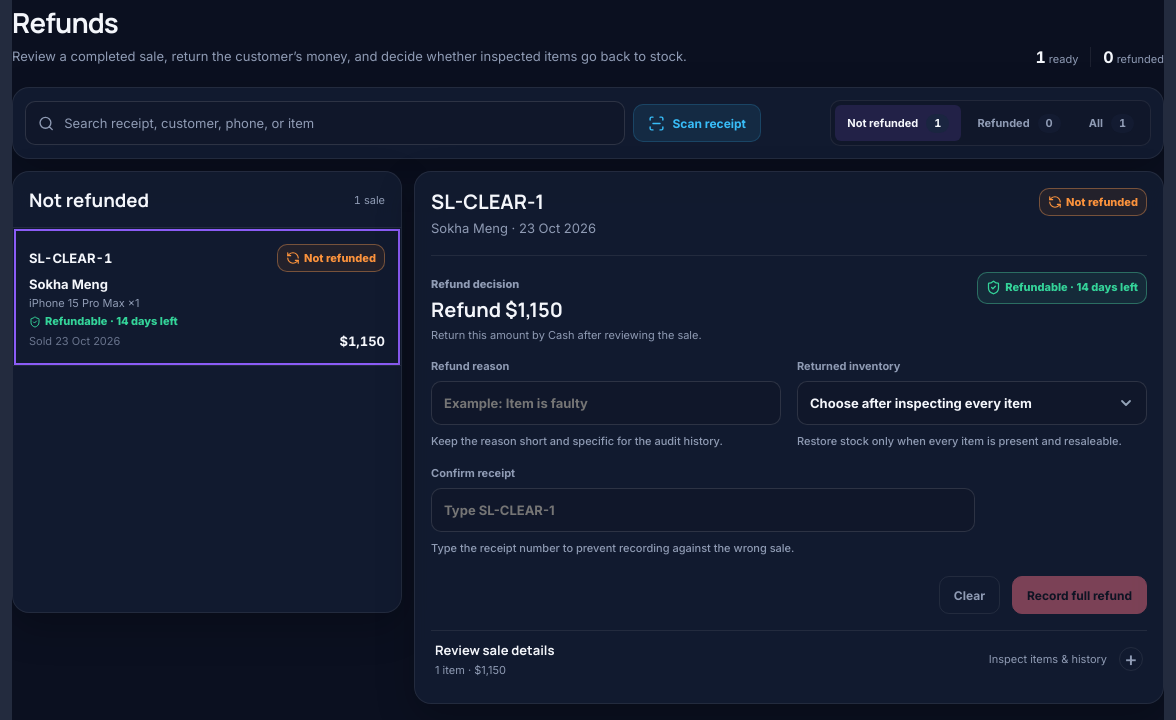
RefundsPage feature integration & safeguards › clear button resets all form inputs and cleared errors
Check: the text "SL-CLEAR-1" is shown, box [29,250,112,266]
In the field with placeholder "Example: Item is faulty": point(606, 403) [431,381,781,425], type "Testing clear button"
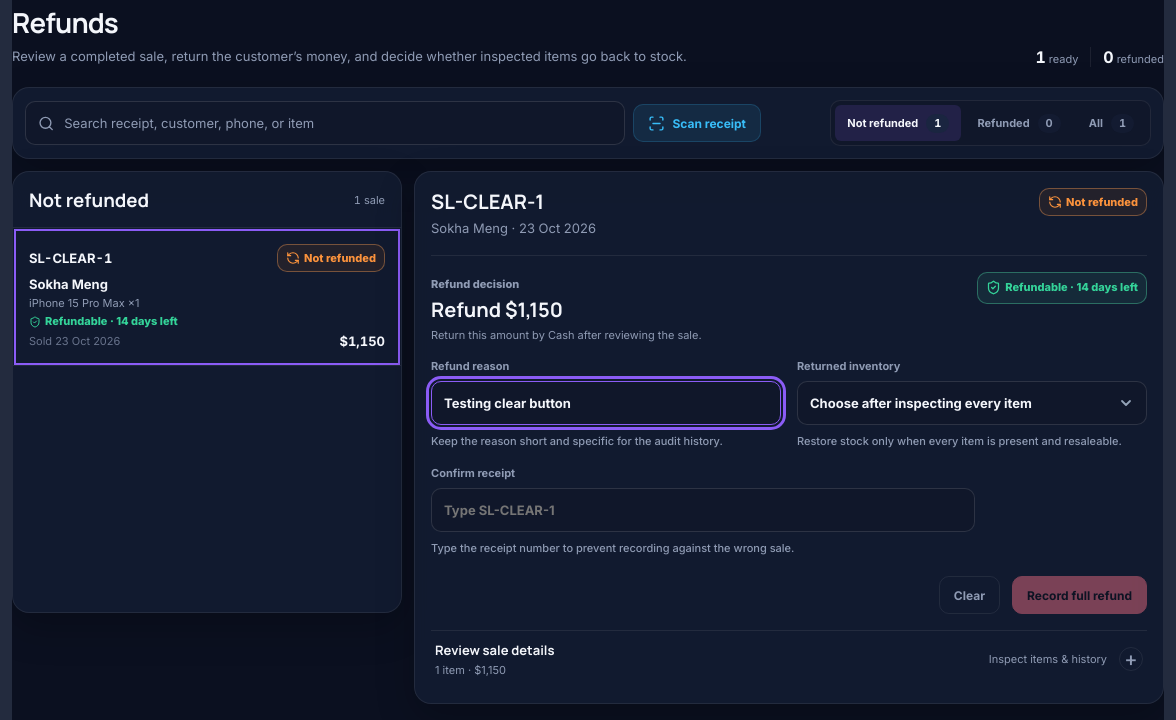
Select "Restore all items to available stock" in the dropdown: point(972, 403) [797,381,1147,425]
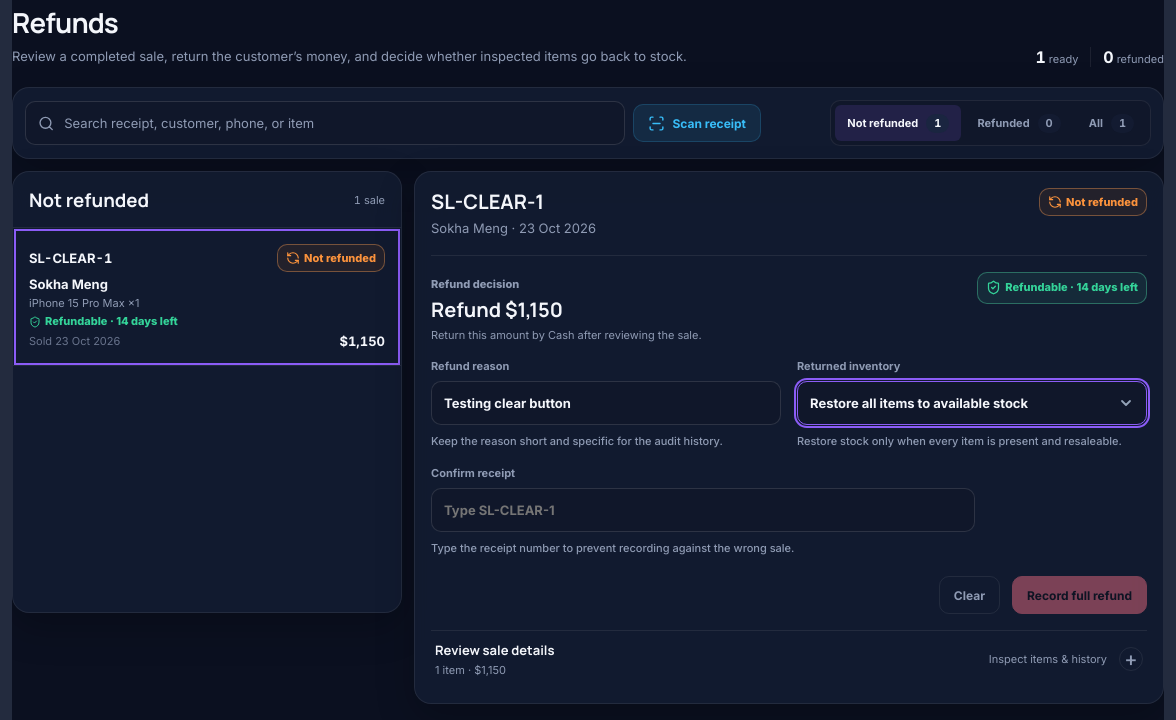
In the field with placeholder "Type SL-CLEAR-1": point(703, 510) [431,488,975,532], type "SL-CLEAR-1"
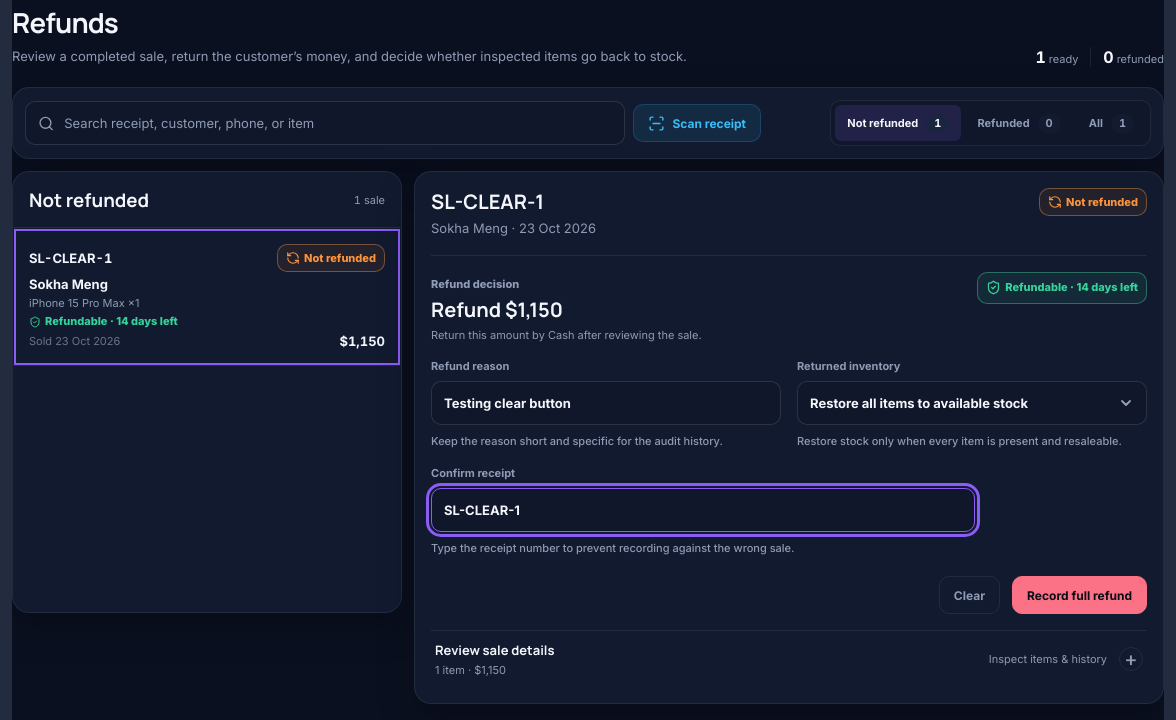
Click the button "Clear": point(969, 595) [939,576,1000,614]
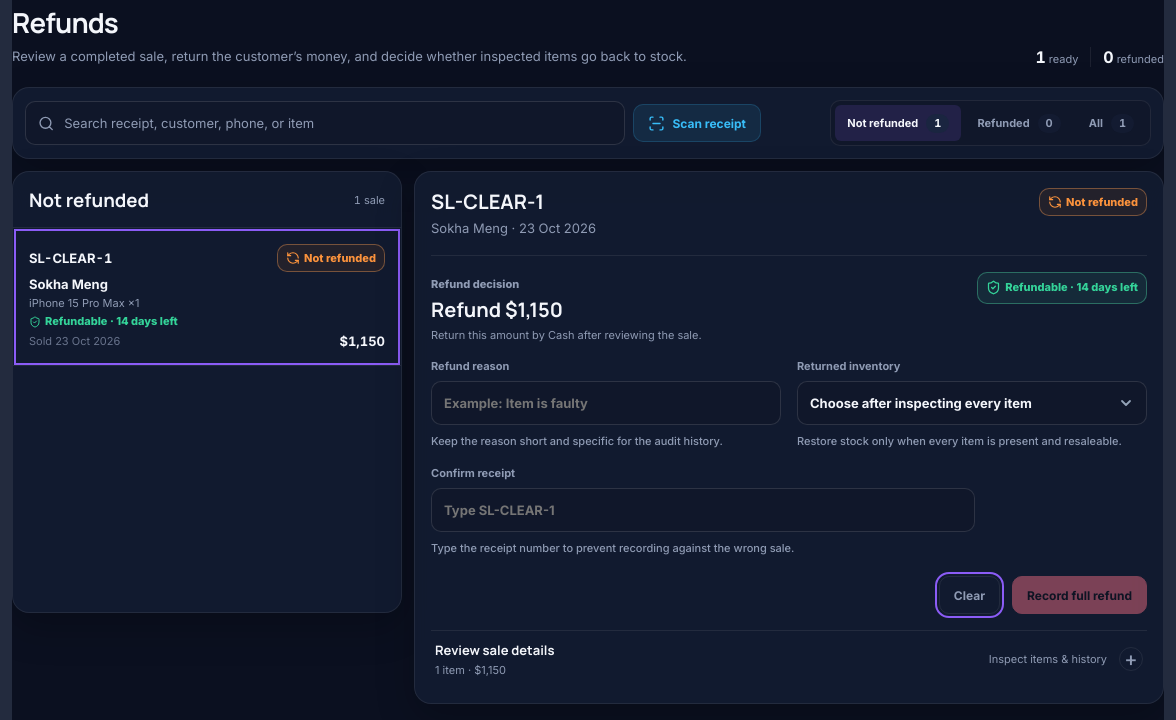
Check: the field with placeholder "Example: Item is faulty" is empty, box [431,381,781,425]
Check: the field with placeholder "Type SL-CLEAR-1" is empty, box [431,488,975,532]
